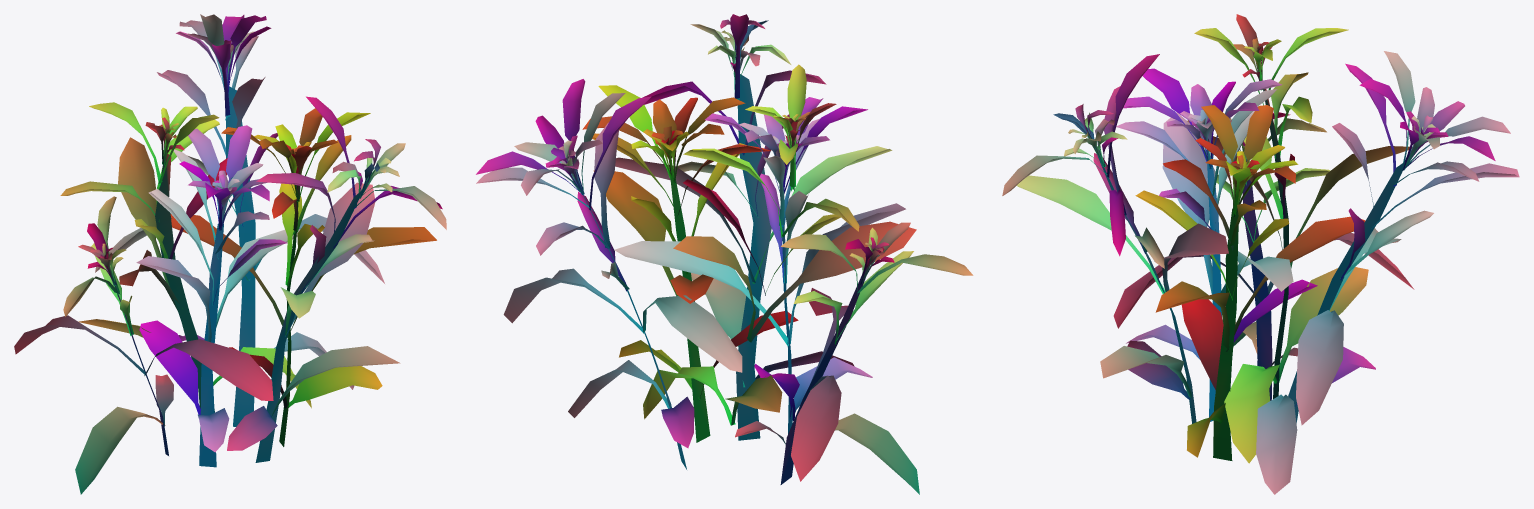
Rendered from Sage_ve3gbfoja_Mid_ve3gbfoja_VarF_LOD1.fbx.
3 views of the same model, side by side, from view 1: azimuth 30°, elevation 25°; view 2: azimuth 150°, elevation 25°; view 3: azimuth 270°, elevation 25° (orthographic). The views are drawn at different scales.
Visible parts, largest first — view 1: _91wg_VarF_LOD3; view 2: _91wg_VarF_LOD3; view 3: _91wg_VarF_LOD3.
Part boxes in pixels (<box>): _91wg_VarF_LOD3: <box>14,14,446,494</box>; _91wg_VarF_LOD3: <box>476,14,973,494</box>; _91wg_VarF_LOD3: <box>1002,14,1519,494</box>.
Bounding box in the file's own units: 50.65 × 49.02 × 55.93.
